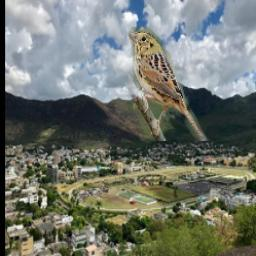Sparrow: (129, 28, 209, 142)
